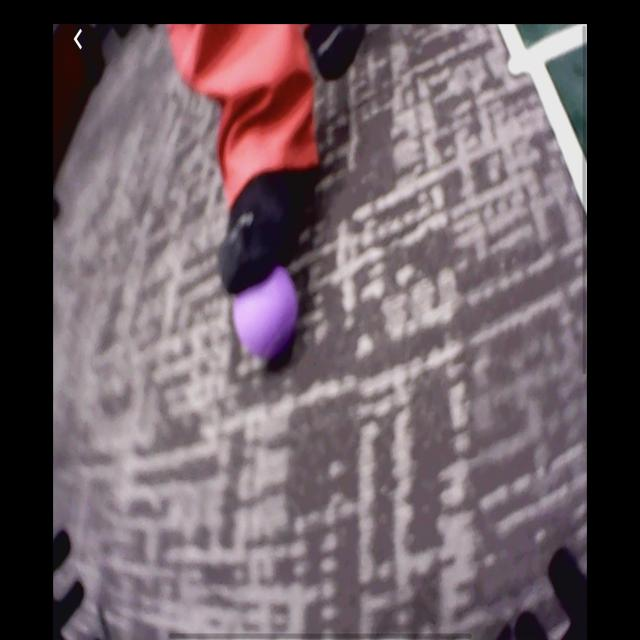ball: (235, 264, 298, 358)
